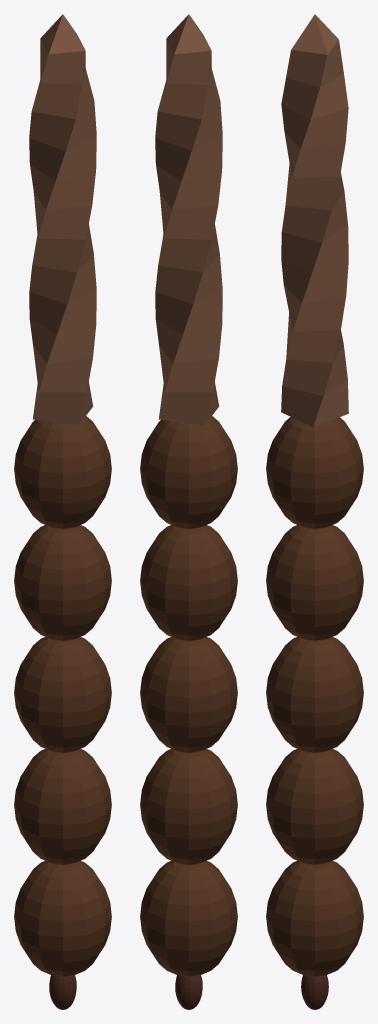
File: Wand 256.glb
The picture shows the model from 3 angles, left to right: view 1: azimuth 30°, elevation 25°; view 2: azimuth 210°, elevation 25°; view 3: azimuth 270°, elevation 25°; orthographic projection.
Parts seen in each view (by area): view 1: GeneratedWand; view 2: GeneratedWand; view 3: GeneratedWand.
Part boxes in pixels (x1,y1,x2,y2): GeneratedWand: [14, 14, 111, 1009]; GeneratedWand: [140, 14, 237, 1009]; GeneratedWand: [266, 14, 363, 1009].
Size of the model in its own units: 0.0447 by 0.5043 by 0.0449.
